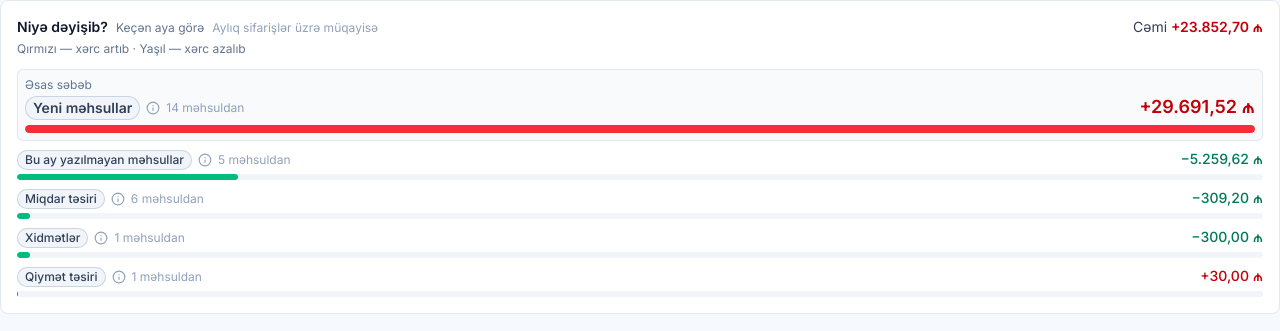
the way from a reason to its products › opens the ⓘ inside a reason without selecting it
Click the button named "Yeni məhsullar nədir?": (153, 108) x1=144 y1=99 x2=162 y2=117
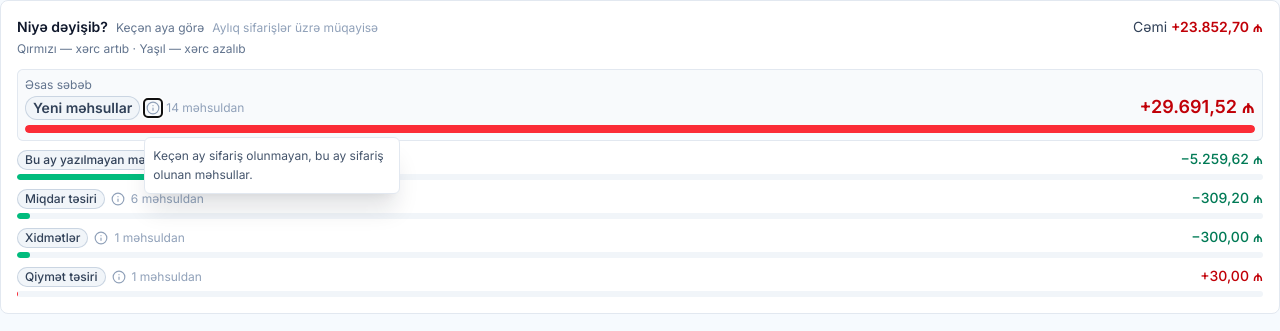
Check: the button named "Yeni məhsullar nədir?" is expanded, box x1=144 y1=99 x2=162 y2=117
Check: the text "Keçən ay sifariş olunmayan, bu ay sifariş olunan məhsullar." is shown, box x1=144 y1=136 x2=400 y2=194
